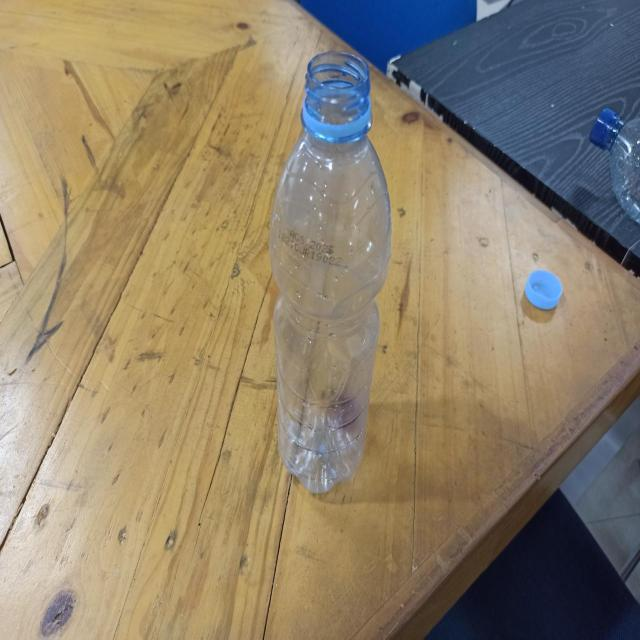BotolPlastik: (268, 49, 392, 494)
